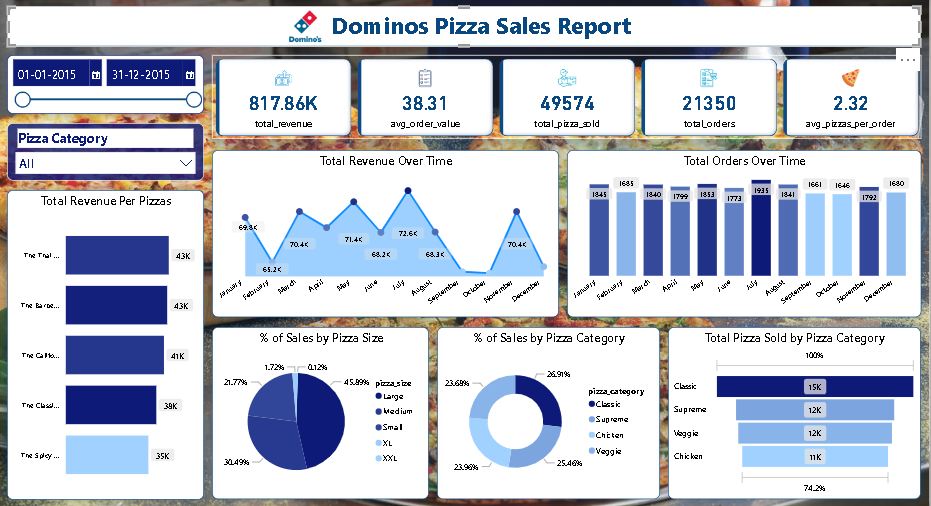

The dashboard page shown, as its layout file describes it:
{"tool":"powerbi","page":{"name":"Page 1","canvas":[1500,820],"ordinal":0},"visuals":[{"type":"cardVisual","fields":{"Data":["pizza_sales.total_revenue","pizza_sales.avg_order_value","pizza_sales.total_pizza_sold","pizza_sales.total_orders","pizza_sales.avg_pizzas_per_order"]},"box":[341.7,91.7,1145,135],"z":0},{"type":"shape","box":[11.7,13.3,1475,65],"z":1000},{"type":"textbox","box":[530,13.3,535,78.3],"z":2000},{"type":"image","box":[420,0,146.7,91.7],"z":3000},{"type":"donutChart","title":"% of Sales by Pizza Category","fields":{"Y":["pizza_sales.total_revenue"],"Category":["pizza_sales.pizza_category"]},"box":[705,531.7,360,278.3],"z":4000},{"type":"pieChart","title":"% of Sales by Pizza Size","fields":{"Y":["pizza_sales.total_revenue"],"Category":["pizza_sales.pizza_size"]},"box":[341.7,531.7,350,278.3],"z":5000},{"type":"funnel","title":"Total Pizza Sold by Pizza Category","fields":{"Y":["Sum(pizza_sales.quantity)"],"Category":["pizza_sales.pizza_category"]},"box":[1078.3,531.7,408.3,278.3],"z":6000},{"type":"slicer","fields":{"Values":["pizza_sales.order_date"]},"box":[11.7,91.7,318.3,95],"z":7000},{"type":"slicer","fields":{"Values":["pizza_sales.pizza_category"]},"box":[11.7,201.7,318.3,93.3],"z":8000},{"type":"columnChart","title":"Total Orders Over Time","fields":{"Y":["pizza_sales.total_orders"],"Category":["pizza_sales.order_date.Variation.Date Hierarchy.Quarter","pizza_sales.order_date.Variation.Date Hierarchy.Month"]},"box":[915,245,571.7,270],"z":9000},{"type":"clusteredBarChart","title":"Total Revenue Per Pizzas","fields":{"Y":["pizza_sales.total_revenue"],"Category":["pizza_sales.pizza_name"]},"box":[11.7,310,318.3,500],"z":10000},{"type":"stackedAreaChart","title":"Total Revenue Over Time","fields":{"Category":["pizza_sales.order_date.Variation.Date Hierarchy.Quarter","pizza_sales.order_date.Variation.Date Hierarchy.Month"],"Y":["pizza_sales.total_revenue"]},"box":[341.7,245,560,270],"z":11000}]}

Visuals, with their boxes in screenshot pixels (x1, y1, x2, y2), scaled from the page's 1500x820 canvas onto the 931x506 screenshot:
cardVisual - pizza_sales.total_revenue x pizza_sales.avg_order_value: region(212, 57, 923, 140)
shape: region(7, 8, 923, 48)
textbox: region(329, 8, 661, 57)
image: region(261, 0, 352, 57)
"% of Sales by Pizza Category" donutChart: region(438, 328, 661, 500)
"% of Sales by Pizza Size" pieChart: region(212, 328, 429, 500)
"Total Pizza Sold by Pizza Category" funnel: region(669, 328, 923, 500)
slicer - pizza_sales.order_date: region(7, 57, 205, 115)
slicer - pizza_sales.pizza_category: region(7, 124, 205, 182)
"Total Orders Over Time" columnChart: region(568, 151, 923, 318)
"Total Revenue Per Pizzas" clusteredBarChart: region(7, 191, 205, 500)
"Total Revenue Over Time" stackedAreaChart: region(212, 151, 560, 318)
